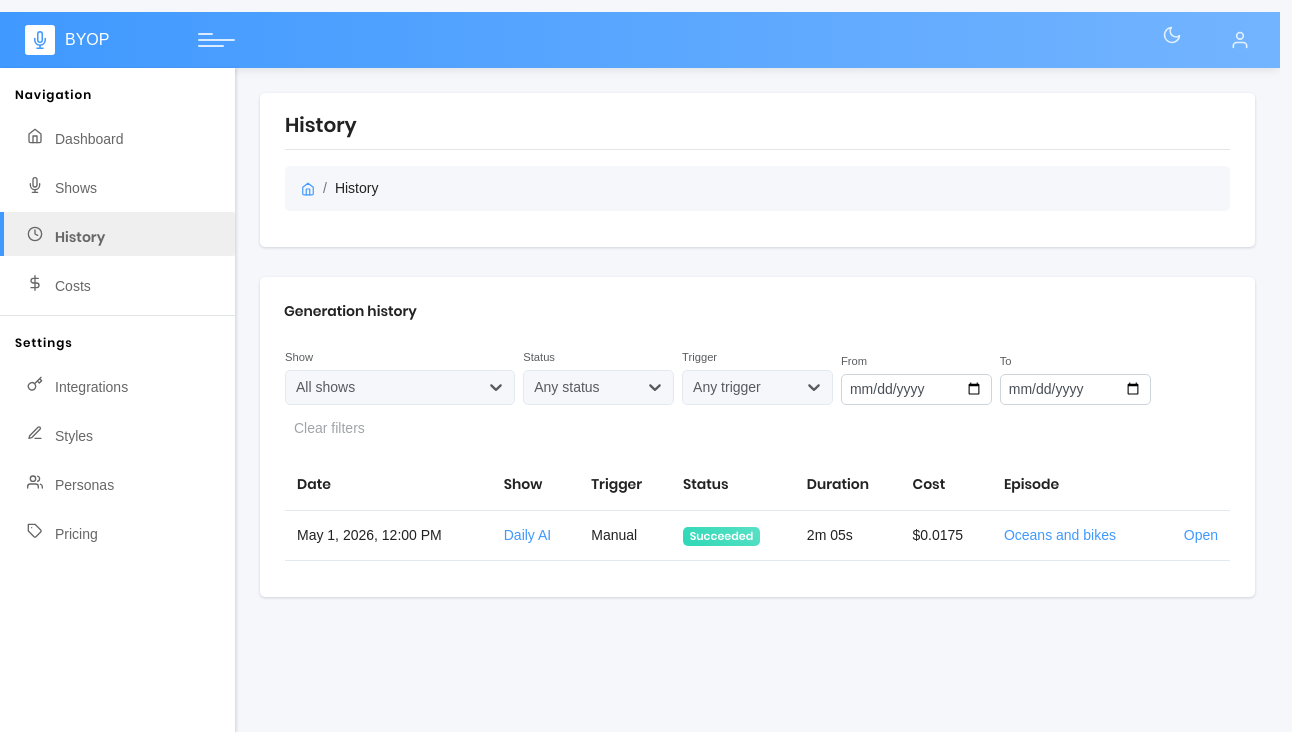
Test: history page › clears all filters at once
Check: the link "Oceans and bikes" is shown, box [1004,527,1116,543]
Check: the button "Clear filters" is disabled, box [285,413,374,444]
Click the dropdown labelled "Status".
click(536, 387)  # box [534,377,538,398]
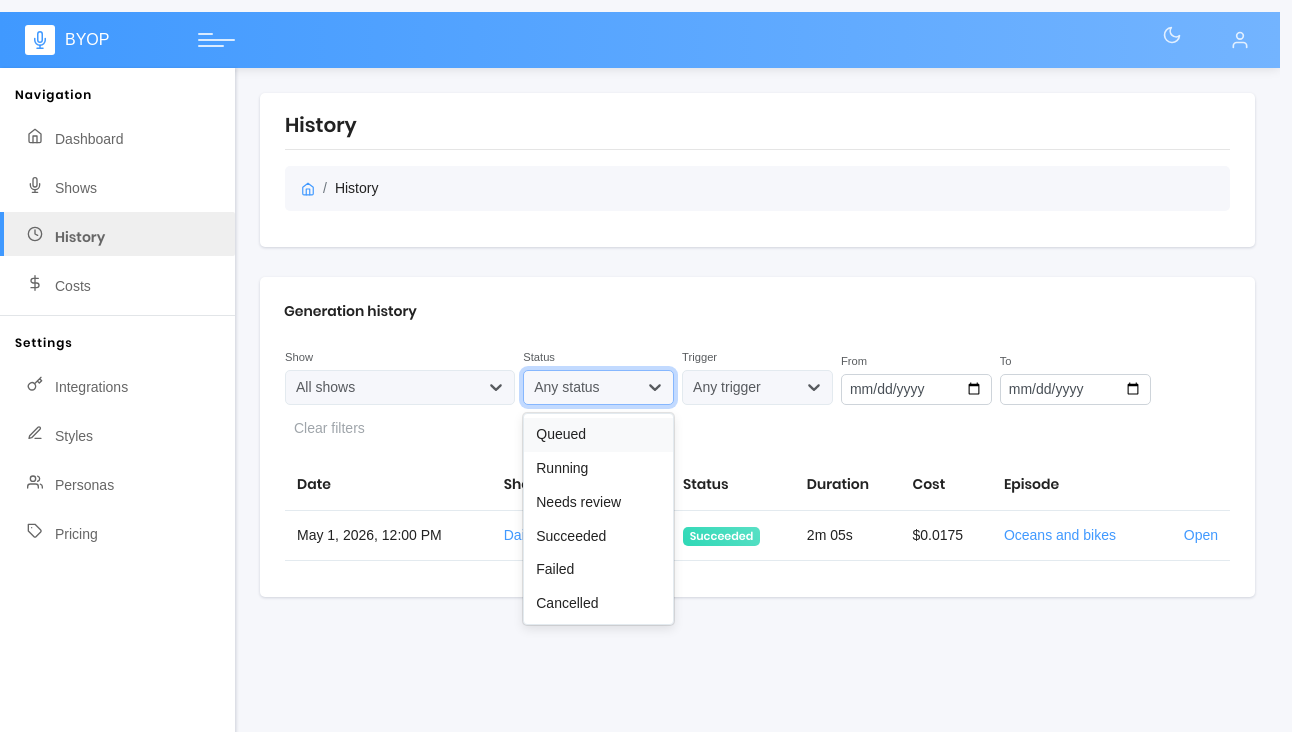
Click the option "Failed".
click(555, 569)  # box [536,561,574,577]
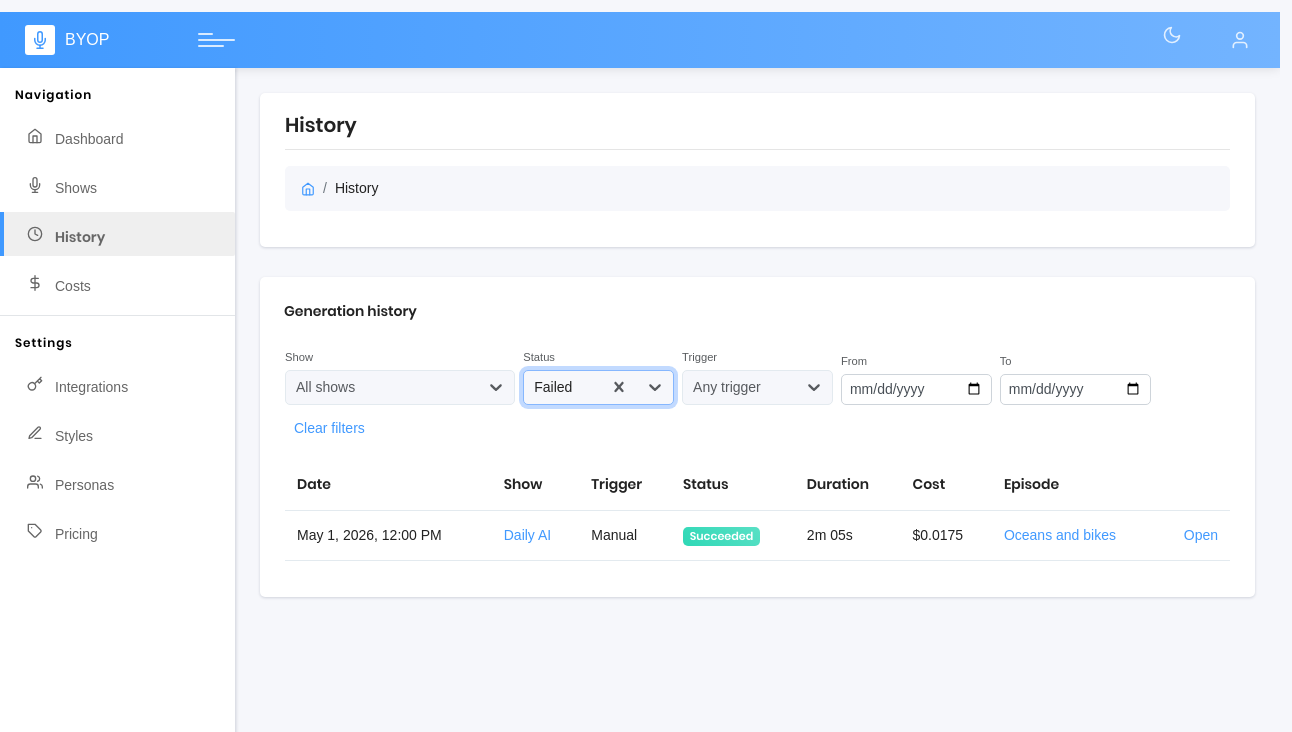
Click the button "Clear filters".
click(329, 428)  # box [285,413,374,444]
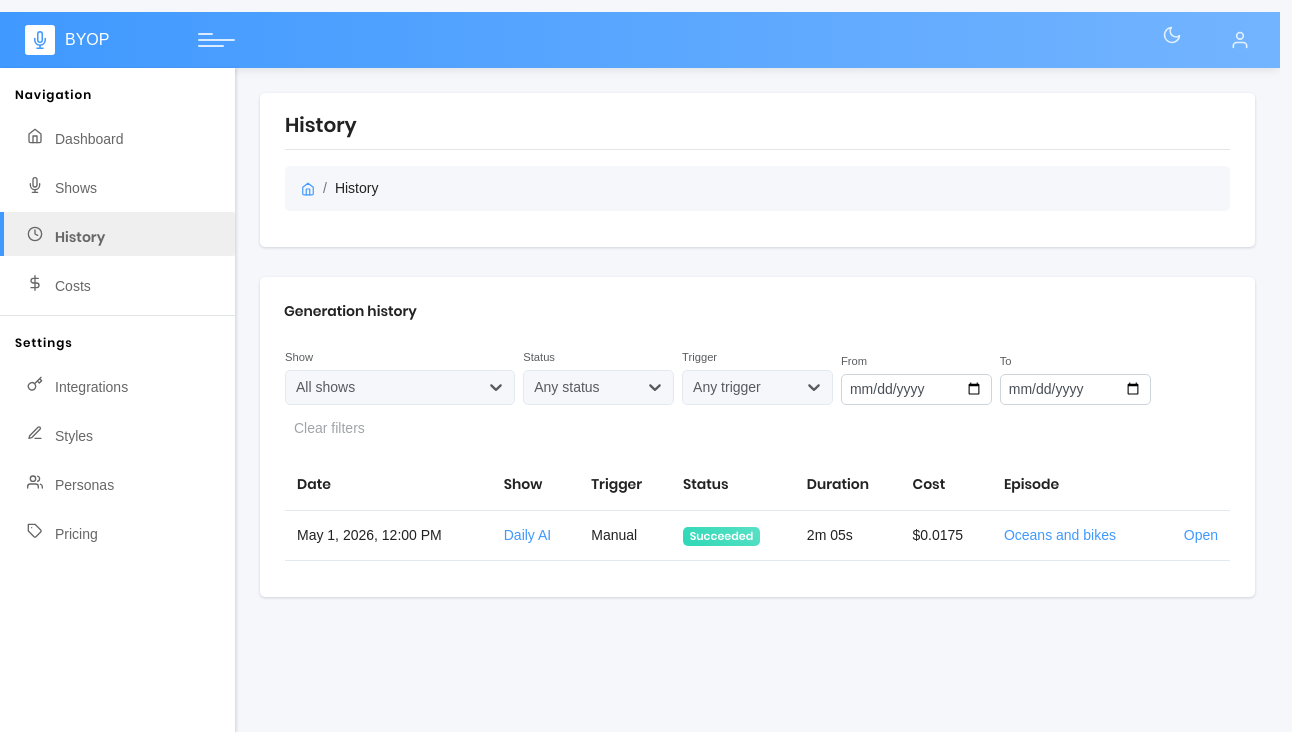
Check: the link "Oceans and bikes" is shown, box [1004,527,1116,543]
Check: the button "Clear filters" is disabled, box [285,413,374,444]
